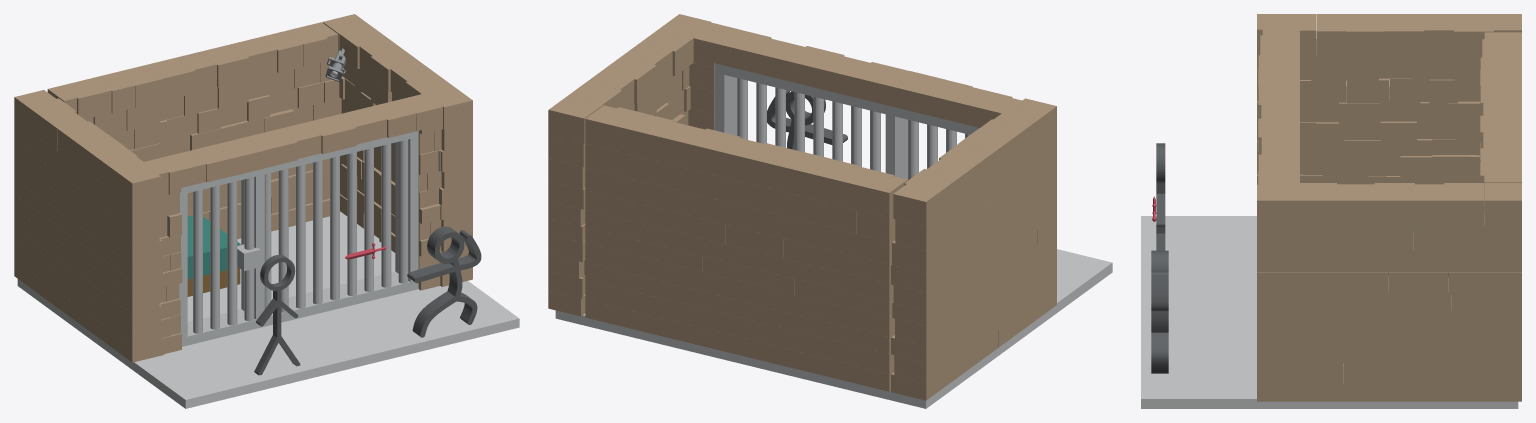
The model's file is jail.glb.
The picture shows the model from 3 angles, left to right: view 1: azimuth 30°, elevation 25°; view 2: azimuth 150°, elevation 25°; view 3: azimuth 270°, elevation 25°; orthographic projection. The views are drawn at different scales.
Visible parts, largest first — view 1: Mesh_Mesh_head_geo.001_lambert2SG.001; view 2: Mesh_Mesh_head_geo.001_lambert2SG.001; view 3: Mesh_Mesh_head_geo.001_lambert2SG.001.
Boxes of the visible parts, x1,y1,x2,y2 form: Mesh_Mesh_head_geo.001_lambert2SG.001: [14, 14, 519, 408]; Mesh_Mesh_head_geo.001_lambert2SG.001: [548, 14, 1112, 408]; Mesh_Mesh_head_geo.001_lambert2SG.001: [1141, 14, 1521, 408].
Size of the model in its own units: 126 by 66.67 by 109.
